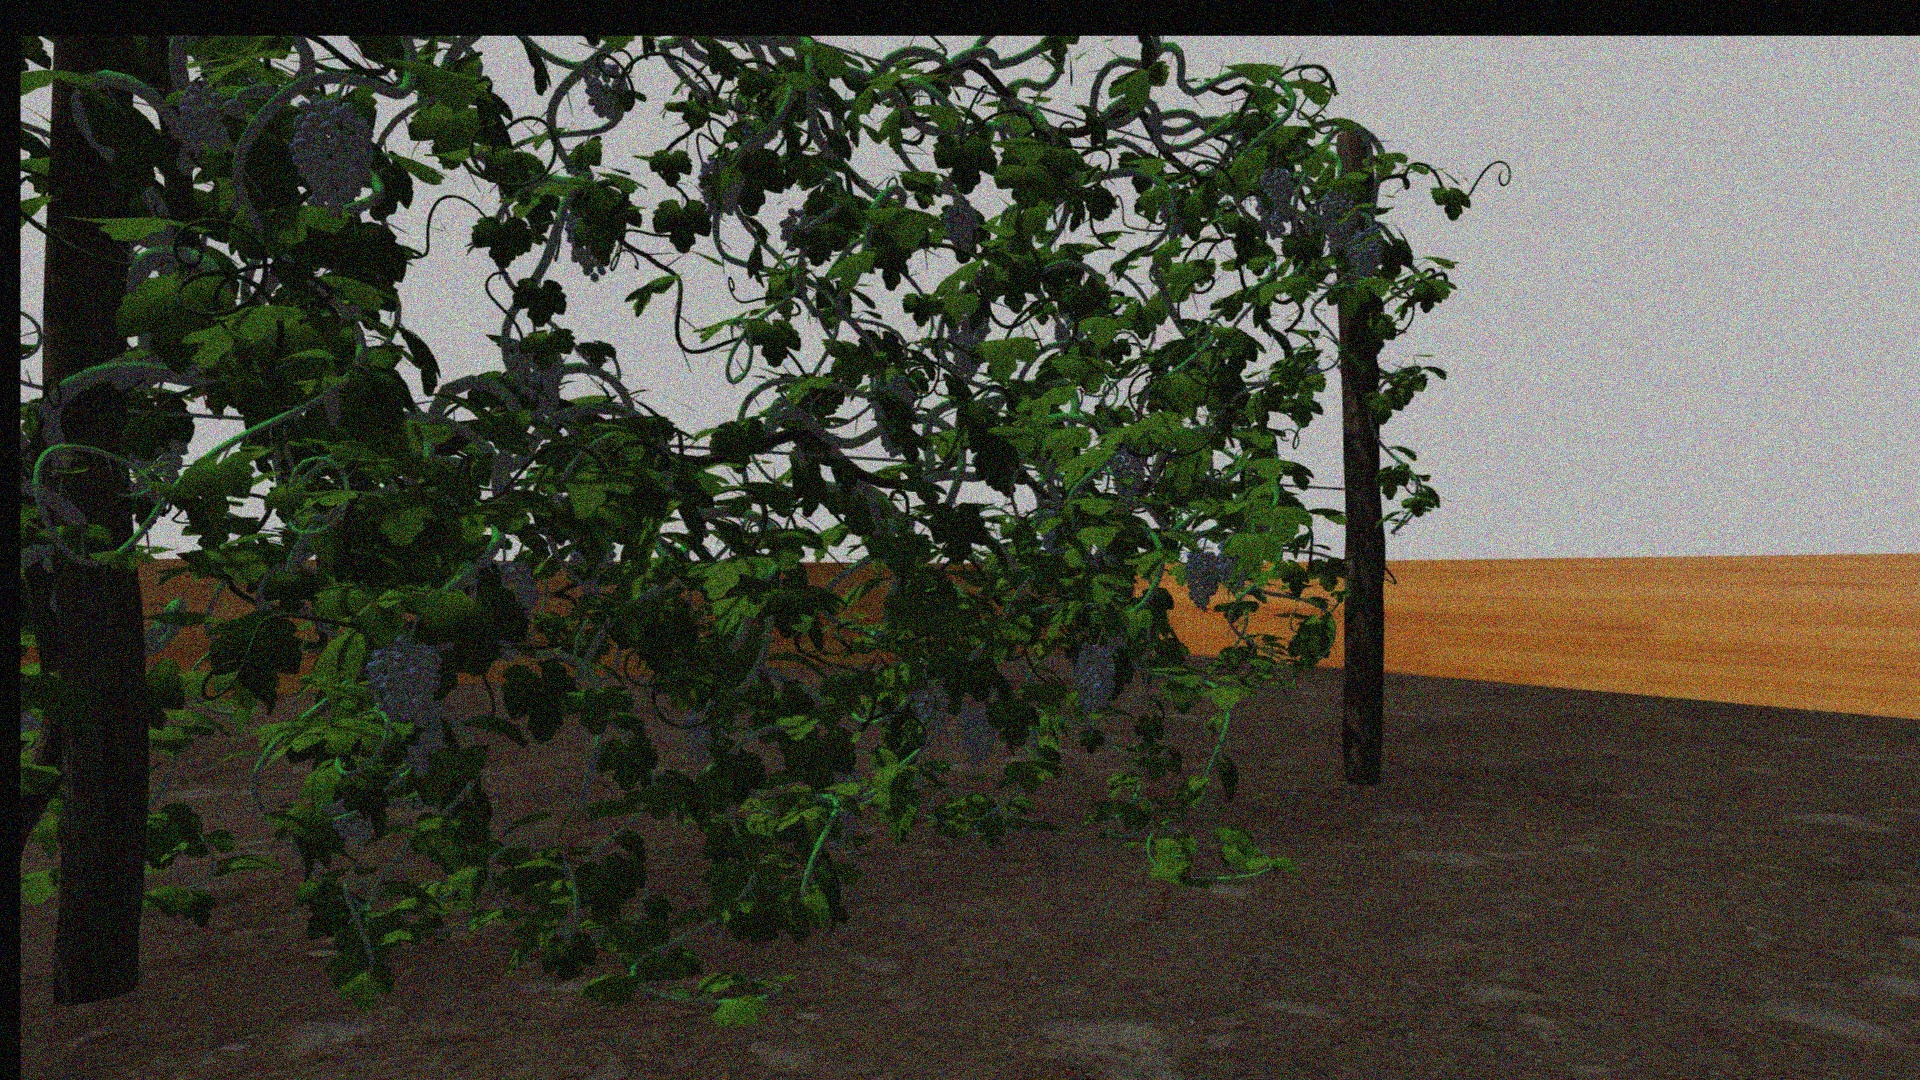grape: (293, 94, 375, 216), (171, 80, 253, 164), (369, 637, 442, 728), (510, 339, 564, 413), (1255, 165, 1296, 237), (1075, 644, 1116, 716), (583, 61, 633, 117), (945, 316, 989, 378), (496, 560, 539, 622), (959, 703, 996, 767), (1321, 189, 1357, 247), (1185, 549, 1218, 611), (1110, 444, 1147, 498), (945, 194, 980, 252), (326, 800, 371, 843), (407, 731, 447, 778), (1346, 229, 1385, 276), (913, 683, 949, 731), (778, 206, 816, 251), (682, 712, 713, 765), (1217, 554, 1247, 591)
